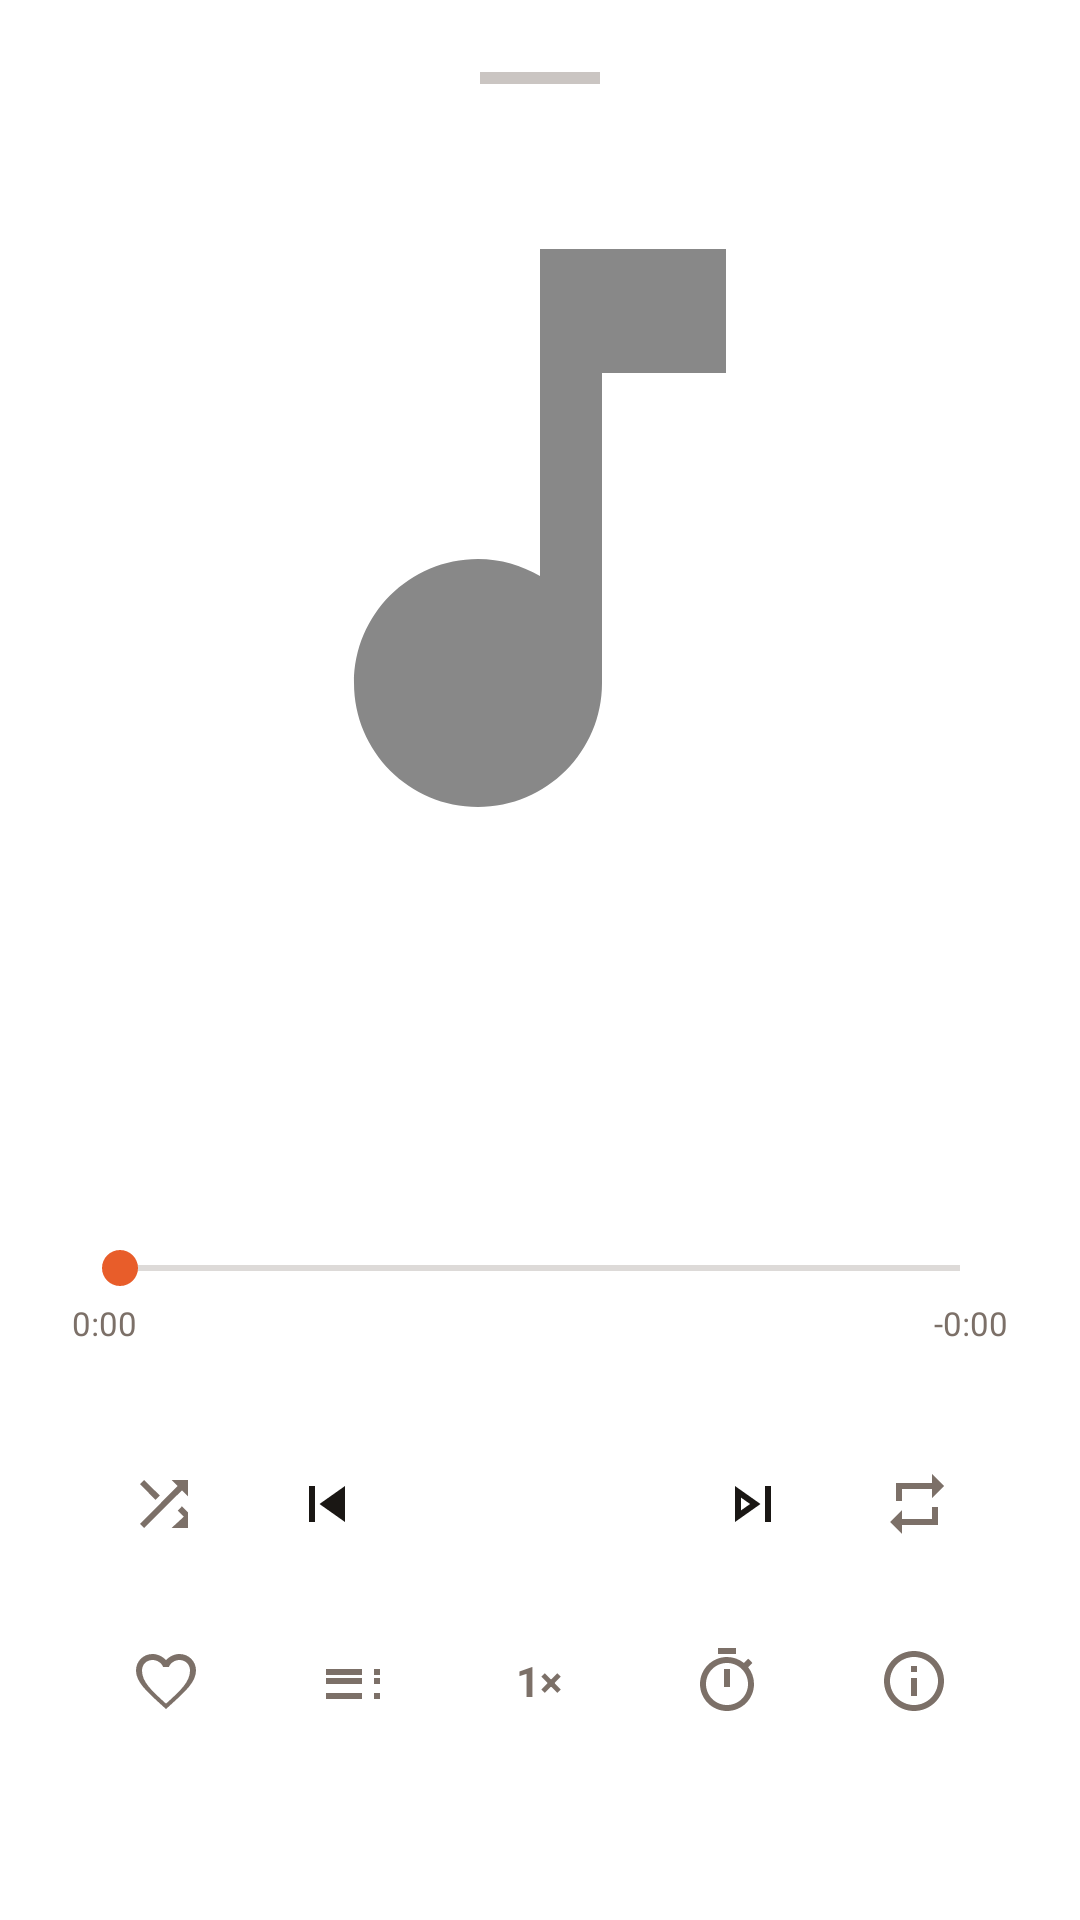

Screen size 1080×1920. Icon name, then its center in pixels as (x=x, y=y):
favorite: (x=166, y=1681)
info: (x=914, y=1681)
queue: (x=353, y=1684)
repeat: (x=917, y=1504)
shuffle: (x=164, y=1504)
skip next: (x=753, y=1504)
skip prev: (x=327, y=1504)
timer: (x=727, y=1679)
